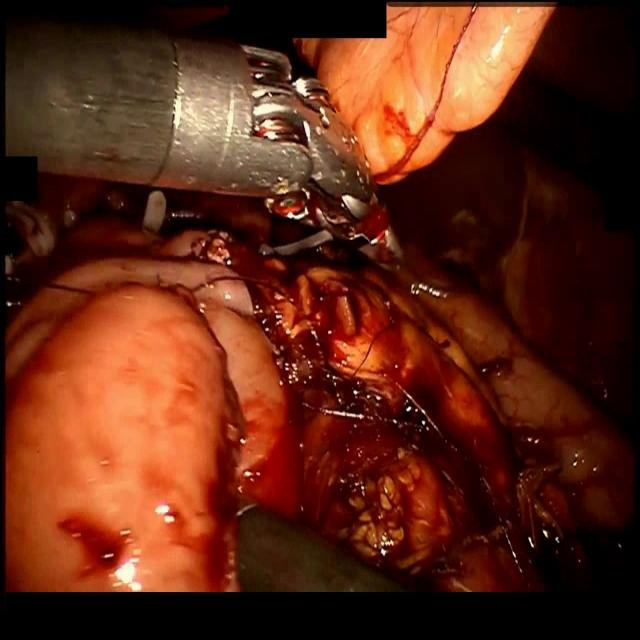surgical-area: (0, 4, 639, 596)
surgical-tool: (0, 0, 400, 267), (236, 500, 418, 596)
